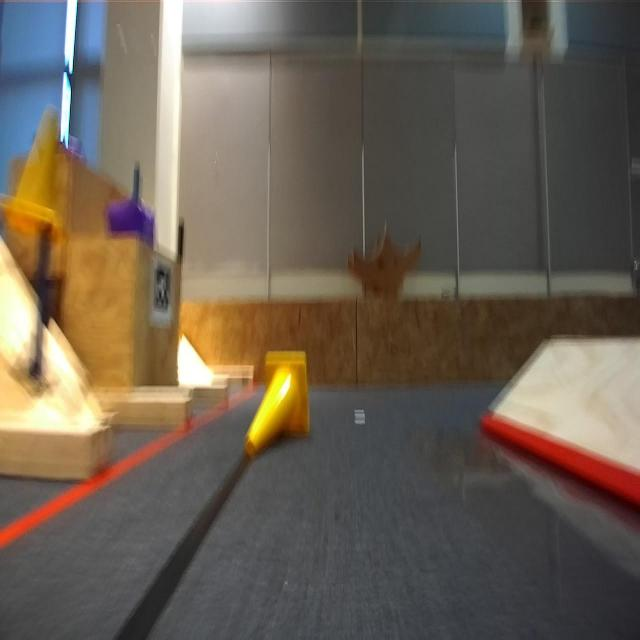frc_cone: (0, 104, 63, 242), (243, 349, 310, 458)
frc_cube: (109, 202, 155, 242)
